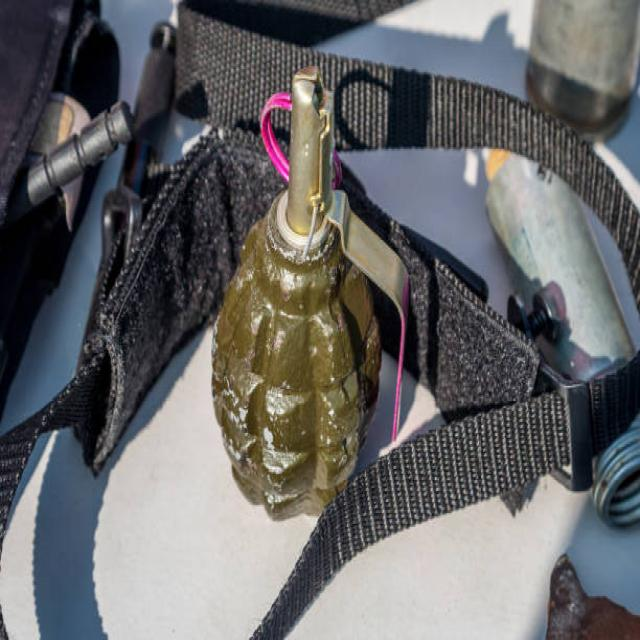grenade: (209, 66, 412, 529)
